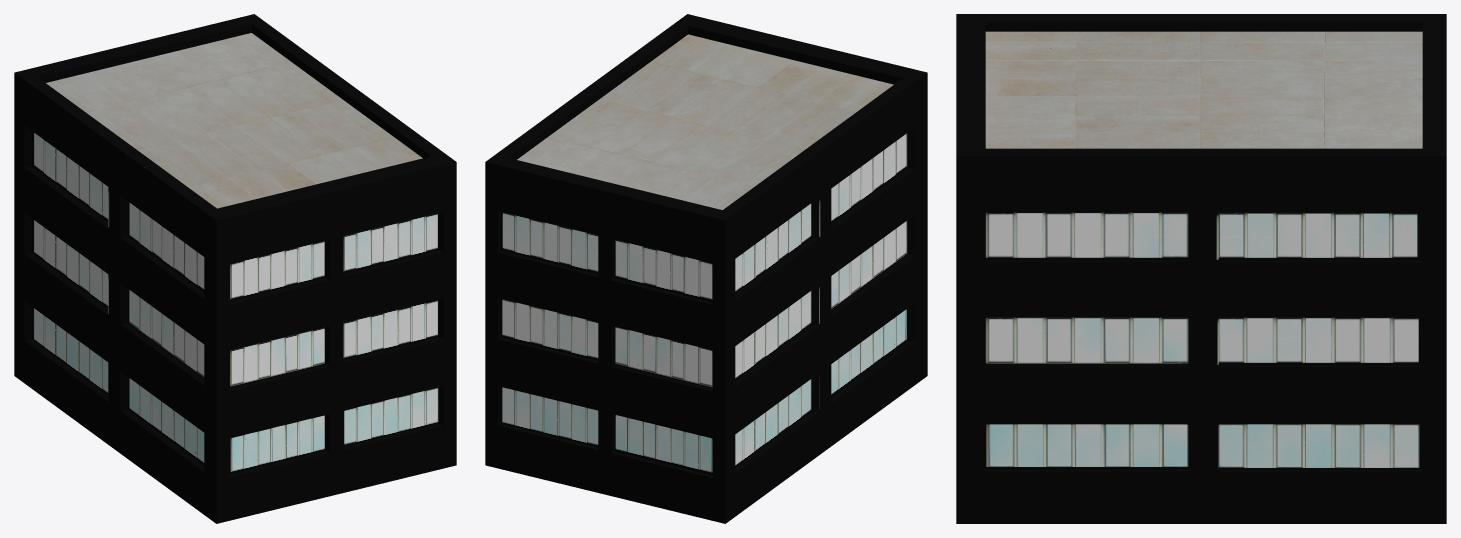
Rendered from house15.FBX.
The picture shows the model from 3 angles, left to right: view 1: azimuth 30°, elevation 25°; view 2: azimuth 150°, elevation 25°; view 3: azimuth 270°, elevation 25°; orthographic projection. The views are drawn at different scales.
Parts seen in each view (by area): view 1: Box001; view 2: Box001; view 3: Box001.
Part boxes in pixels (<box>): Box001: <box>14,14,456,523</box>; Box001: <box>485,14,927,523</box>; Box001: <box>956,14,1446,523</box>.
Bounding box in the file's own units: 116 × 140 × 169.
